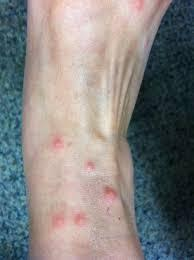Chiggers: (99, 185, 119, 204), (72, 211, 86, 227), (84, 161, 95, 175), (51, 218, 63, 228), (51, 137, 60, 148)
